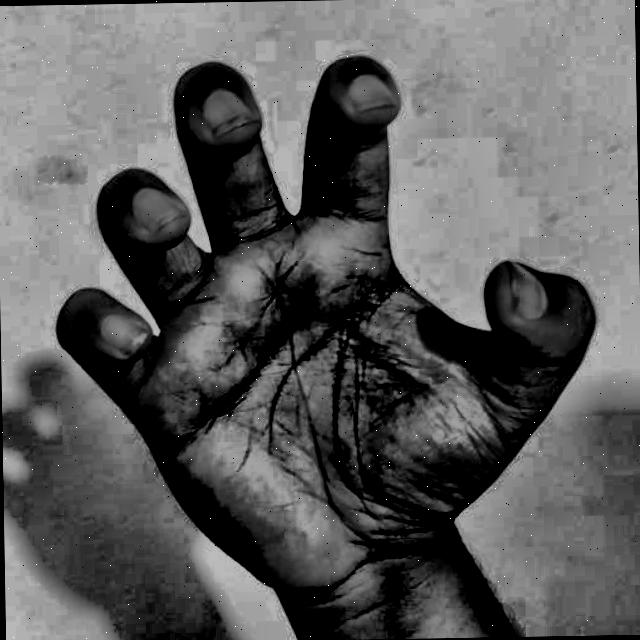Ja: (26, 13, 616, 624)
